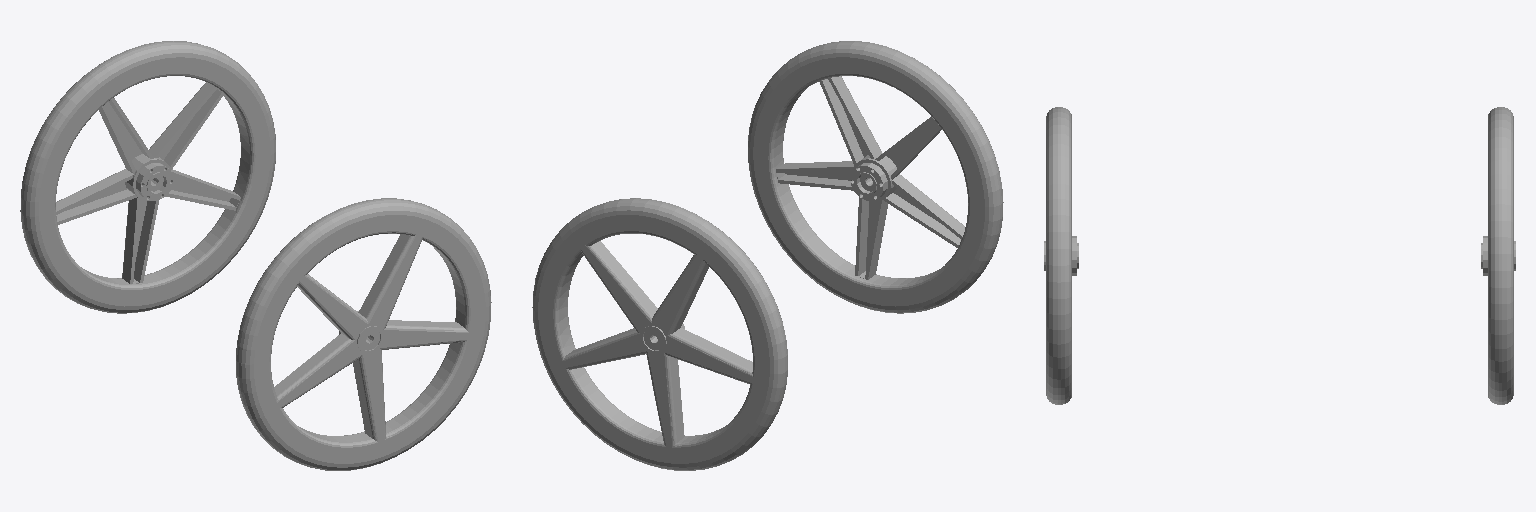
robot.urdf — segway_KHS:
<robot
  name="segway_KHS">
  <link
    name="body">
    <inertial>
      <origin
        xyz="0.0044417 0.0037232 0.1937"
        rpy="0 0 0" />
      <mass
        value="42.3" />
      <inertia
        ixx="4.4396"
        ixy="-0.016922"
        ixz="0.030132"
        iyy="4.1418"
        iyz="0.031966"
        izz="0.68573" />
    </inertial>
    <visual>
      <origin
        xyz="0 0 0"
        rpy="0 0 0" />
      <geometry>
        <mesh
          filename="package://segway_KHS/meshes/body.STL" />
      </geometry>
      <material
        name="">
        <color
          rgba="0.75294 0.75294 0.75294 1" />
      </material>
    </visual>
    <collision>
      <origin
        xyz="0 0 0"
        rpy="0 0 0" />
      <geometry>
        <mesh
          filename="package://segway_KHS/meshes/body.STL" />
      </geometry>
    </collision>
  </link>
  <link
    name="right_wheel">
    <inertial>
      <origin
        xyz="1.7386E-10 -2.952E-06 -8.7126E-11"
        rpy="0 0 0" />
      <mass
        value="3.7" />
      <inertia
        ixx="0.010817"
        ixy="5.3421E-12"
        ixz="-1.0432E-12"
        iyy="0.021479"
        iyz="-3.7794E-12"
        izz="0.010817" />
    </inertial>
    <visual>
      <origin
        xyz="0 0 0"
        rpy="0 0 0" />
      <geometry>
        <mesh
          filename="package://segway_KHS/meshes/right_wheel.STL" />
      </geometry>
      <material
        name="">
        <color
          rgba="0.69804 0.69804 0.69804 1" />
      </material>
    </visual>
    <collision>
      <origin
        xyz="0 0 0"
        rpy="0 0 0" />
      <geometry>
        <mesh
          filename="package://segway_KHS/meshes/right_wheel.STL" />
      </geometry>
    </collision>
  </link>
  <joint
    name="right_wheel_joint"
    type="revolute">
    <origin
      xyz="0 -0.28582 0"
      rpy="1.622E-33 0 0" />
    <parent
      link="body" />
    <child
      link="right_wheel" />
    <axis
      xyz="0 1 0" />
    <limit
      effort="0"
      velocity="0" />
  </joint>
  <link
    name="left_wheel">
    <inertial>
      <origin
        xyz="-1.7703E-10 2.952E-06 -8.0486E-11"
        rpy="0 0 0" />
      <mass
        value="3.7" />
      <inertia
        ixx="0.010817"
        ixy="5.4814E-12"
        ixz="1.0194E-12"
        iyy="0.021479"
        iyz="3.5746E-12"
        izz="0.010817" />
    </inertial>
    <visual>
      <origin
        xyz="0 0 0"
        rpy="0 0 0" />
      <geometry>
        <mesh
          filename="package://segway_KHS/meshes/left_wheel.STL" />
      </geometry>
      <material
        name="">
        <color
          rgba="0.69804 0.69804 0.69804 1" />
      </material>
    </visual>
    <collision>
      <origin
        xyz="0 0 0"
        rpy="0 0 0" />
      <geometry>
        <mesh
          filename="package://segway_KHS/meshes/left_wheel.STL" />
      </geometry>
    </collision>
  </link>
  <joint
    name="left_wheel_joint"
    type="revolute">
    <origin
      xyz="0 0.28582 0"
      rpy="1.622E-33 0 0" />
    <parent
      link="body" />
    <child
      link="left_wheel" />
    <axis
      xyz="0 1 0" />
    <limit
      effort="0"
      velocity="0" />
  </joint>
</robot>

--- Render facts (derived) ---
The picture shows the robot from 3 angles, left to right: view 1: azimuth 30°, elevation 25°; view 2: azimuth 150°, elevation 25°; view 3: azimuth 270°, elevation 25°; orthographic projection.
Model segway_KHS with 3 links and 2 joints (2 revolute), rooted at body, posed all joints at 0.
Visible links, largest first — view 1: left_wheel, right_wheel; view 2: left_wheel, right_wheel; view 3: right_wheel, left_wheel.
Boxes of the visible links, <box> form: left_wheel: <box>20,41,275,313</box>; right_wheel: <box>236,198,491,470</box>; left_wheel: <box>532,198,787,470</box>; right_wheel: <box>748,41,1003,313</box>; right_wheel: <box>1044,107,1078,404</box>; left_wheel: <box>1481,107,1515,404</box>.
Size in the robot's own frame: 0.3849 by 0.6082 by 0.385 metres.
2 mesh visuals loaded from 3 distinct referenced files (2 binary STL); not drawn: 1 (reference not matched to a file when rendering).